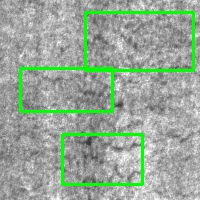crazing: (85, 12, 193, 70), (62, 134, 142, 184), (20, 68, 112, 111)
